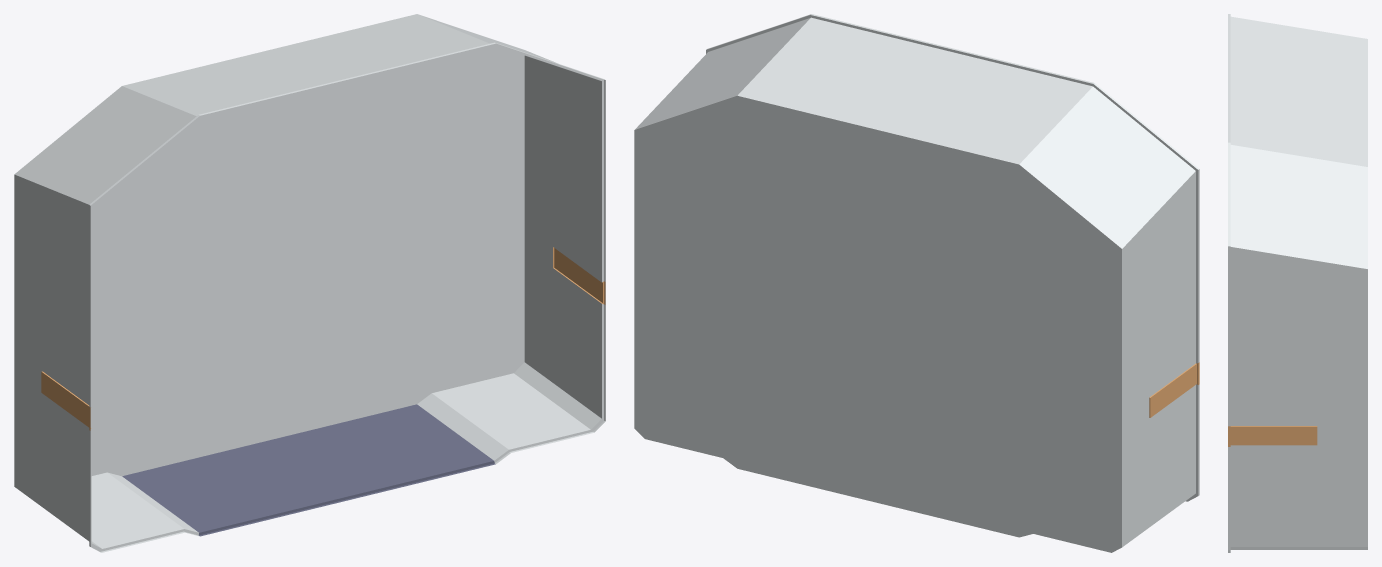
The model's file is HangarDead.fbx.
The picture shows the model from 3 angles, left to right: view 1: azimuth 30°, elevation 25°; view 2: azimuth 150°, elevation 25°; view 3: azimuth 270°, elevation 25°; orthographic projection. The views are drawn at different scales.
Parts seen in each view (by area): view 1: HangarHallEnd; view 2: HangarHallEnd; view 3: HangarHallEnd.
Part boxes in pixels (left/top/right/bottom): HangarHallEnd: left=14, top=14, right=605, bottom=552; HangarHallEnd: left=634, top=14, right=1199, bottom=552; HangarHallEnd: left=1228, top=14, right=1367, bottom=552.
Size of the model in its own units: 8.61 by 6.72 by 2.28.
